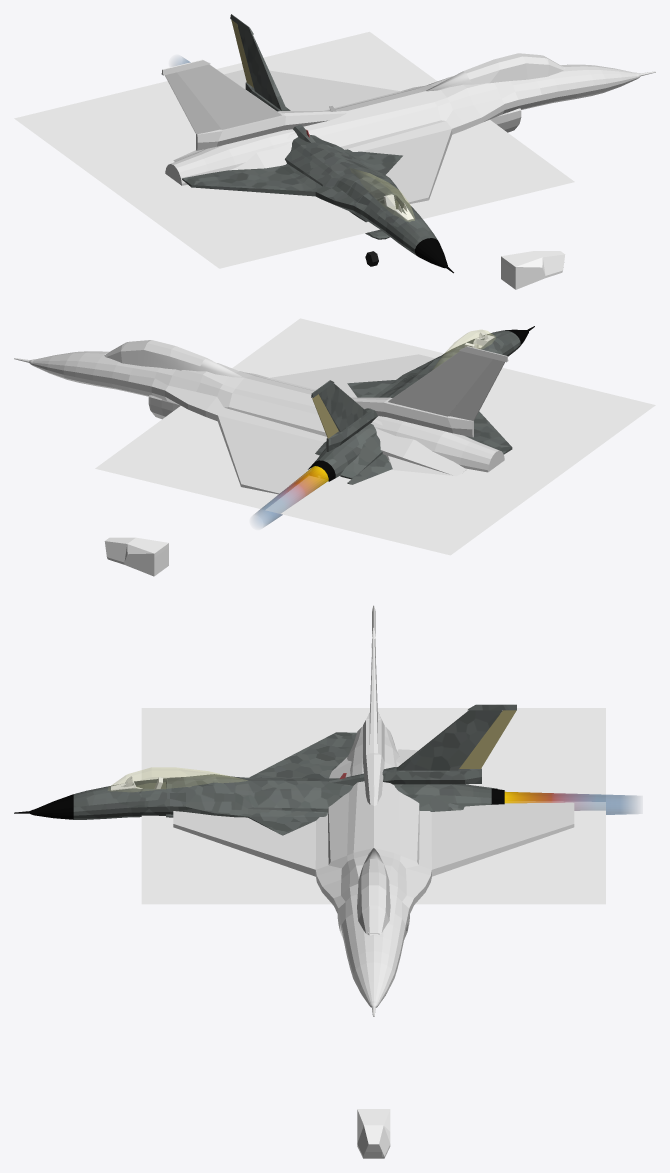
3 renders of one model, top to bottom at view 1: azimuth 30°, elevation 25°; view 2: azimuth 150°, elevation 25°; view 3: azimuth 270°, elevation 25°, orthographic. The views are drawn at different scales.
Parts seen in each view (by area): view 1: MaterialCreator, MainFrame.001, MainFrame, rudder_frame.001, Engine.001, cabin_glass_outside.001, rudder_frame, Main frame.002, Rudder.001; view 2: MaterialCreator, MainFrame.001, rudder_frame.001, MainFrame, Engine.001, cabin_glass_outside.001, rudder_frame, Main frame.002, Afterburner, Engine, Rudder.001, right_elevator (+2 smaller); view 3: MaterialCreator, MainFrame.001, MainFrame, rudder_frame, rudder_frame.001, cabin_glass_outside.001, Afterburner, Engine, Main frame.002, rudder_0, Engine.001, cabin_glass_outside.
Boxes of the visible parts, x1,y1,x2,y2 form: MaterialCreator: [14, 31, 574, 268]; MainFrame.001: [173, 64, 655, 203]; MainFrame: [182, 135, 453, 273]; rudder_frame.001: [161, 59, 347, 150]; Engine.001: [165, 108, 521, 185]; cabin_glass_outside.001: [426, 53, 565, 91]; rudder_frame: [230, 14, 315, 142]; Main frame.002: [501, 251, 565, 289]; Rudder.001: [165, 72, 221, 134]; MaterialCreator: [95, 318, 655, 555]; MainFrame.001: [14, 351, 466, 494]; rudder_frame.001: [351, 346, 508, 437]; MainFrame: [315, 326, 534, 479]; Engine.001: [148, 395, 504, 472]; cabin_glass_outside.001: [104, 340, 243, 377]; rudder_frame: [311, 380, 377, 451]; Main frame.002: [104, 537, 168, 576]; Afterburner: [254, 466, 328, 527]; Engine: [308, 423, 376, 481]; Rudder.001: [448, 359, 504, 420]; right_elevator: [347, 454, 392, 484]; MaterialCreator: [141, 708, 605, 904]; MainFrame.001: [173, 749, 574, 1016]; MainFrame: [14, 732, 464, 835]; rudder_frame: [328, 704, 516, 785]; rudder_frame.001: [363, 605, 384, 805]; cabin_glass_outside.001: [357, 848, 390, 935]; Afterburner: [504, 791, 638, 814]; Engine: [166, 782, 504, 817]; Main frame.002: [357, 1109, 390, 1158]; rudder_0: [459, 710, 516, 768]; Engine.001: [337, 726, 409, 939]; cabin_glass_outside: [109, 767, 246, 788].
Size of the model in its own units: 3.03 by 1.61 by 2.76.
19 materials, 12 textured.
